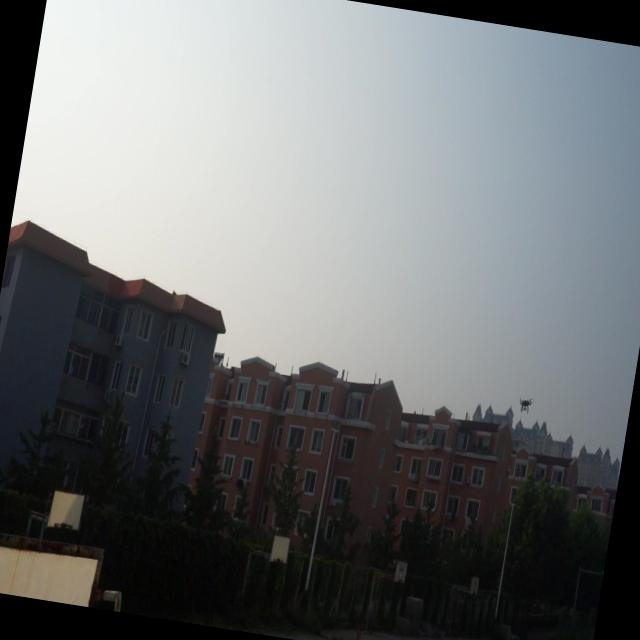drone: (516, 394, 534, 416)
